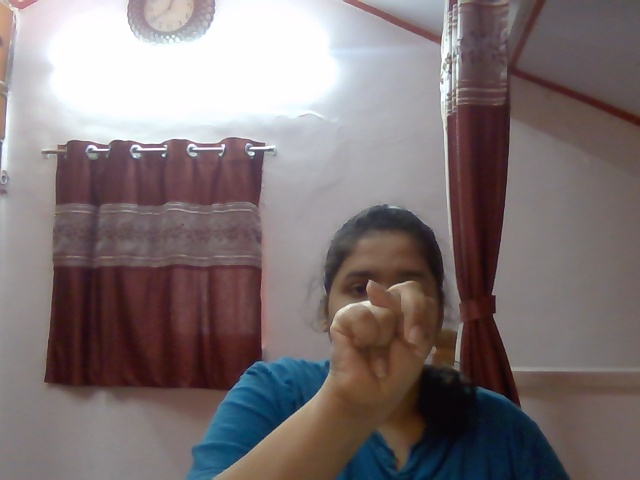n: (311, 269, 450, 416)
